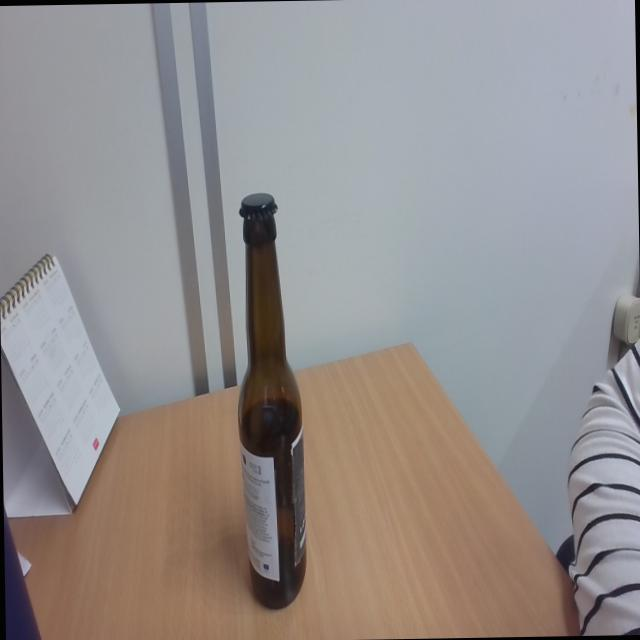Bottle: (233, 191, 309, 609)
Cap: (235, 192, 279, 224)
Label: (242, 440, 308, 580)
